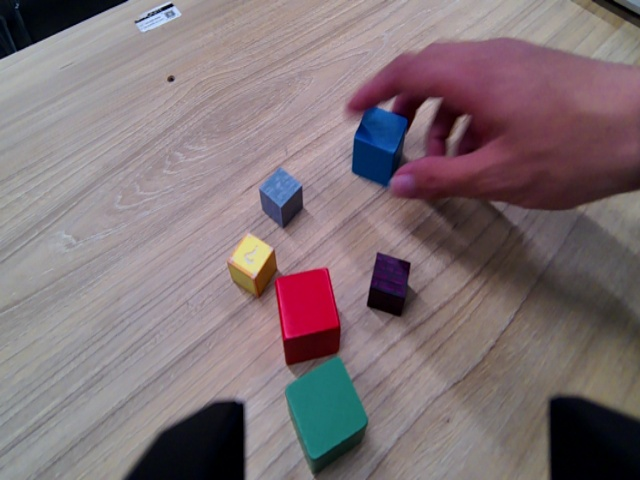brick: (364, 250, 416, 320)
lucky: (221, 229, 281, 299)
stone: (254, 165, 307, 230)
